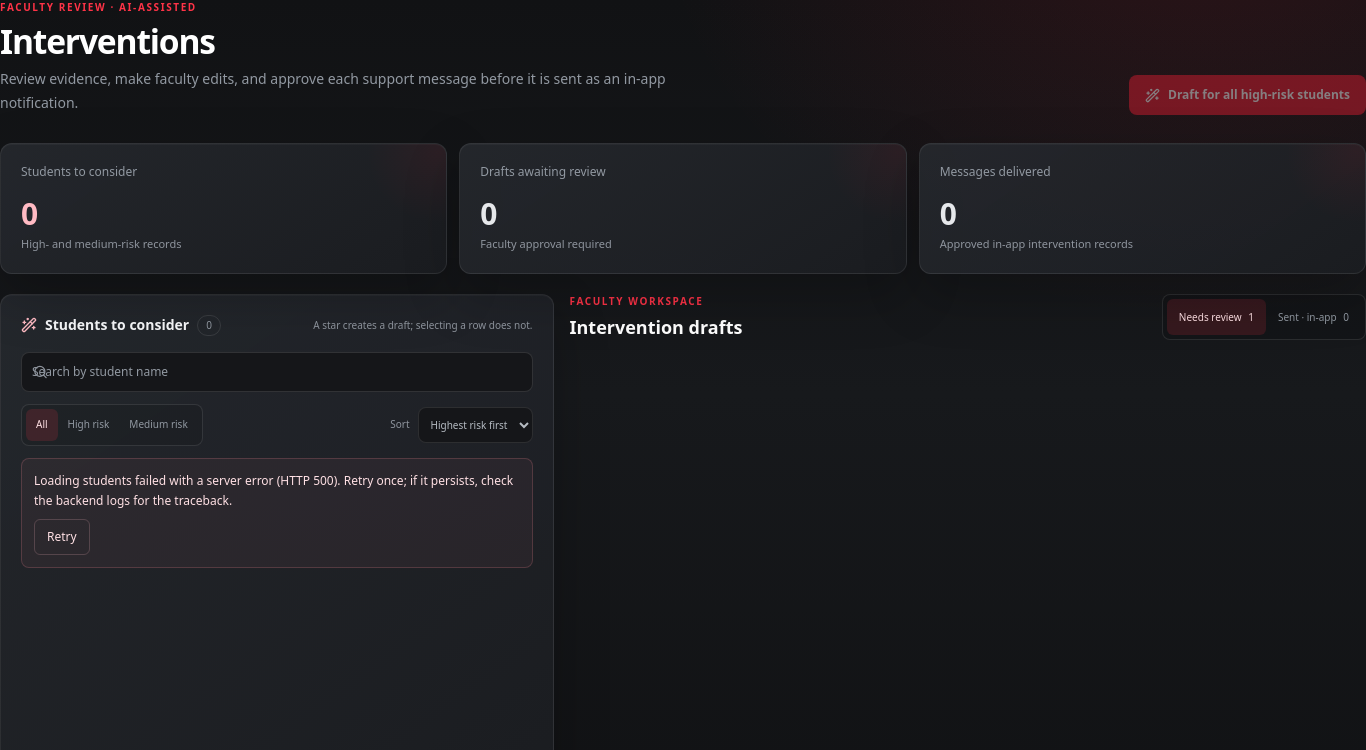
Test: teacher interventions page › shows a retry action when loading the student directory fails
The width and height of the screenshot is (1366, 750).
Expected: the text "Loading students failed with a server error" is shown, [34,472,513,508]
Click the button "Retry".
click(62, 536)  # box [34,518,90,554]
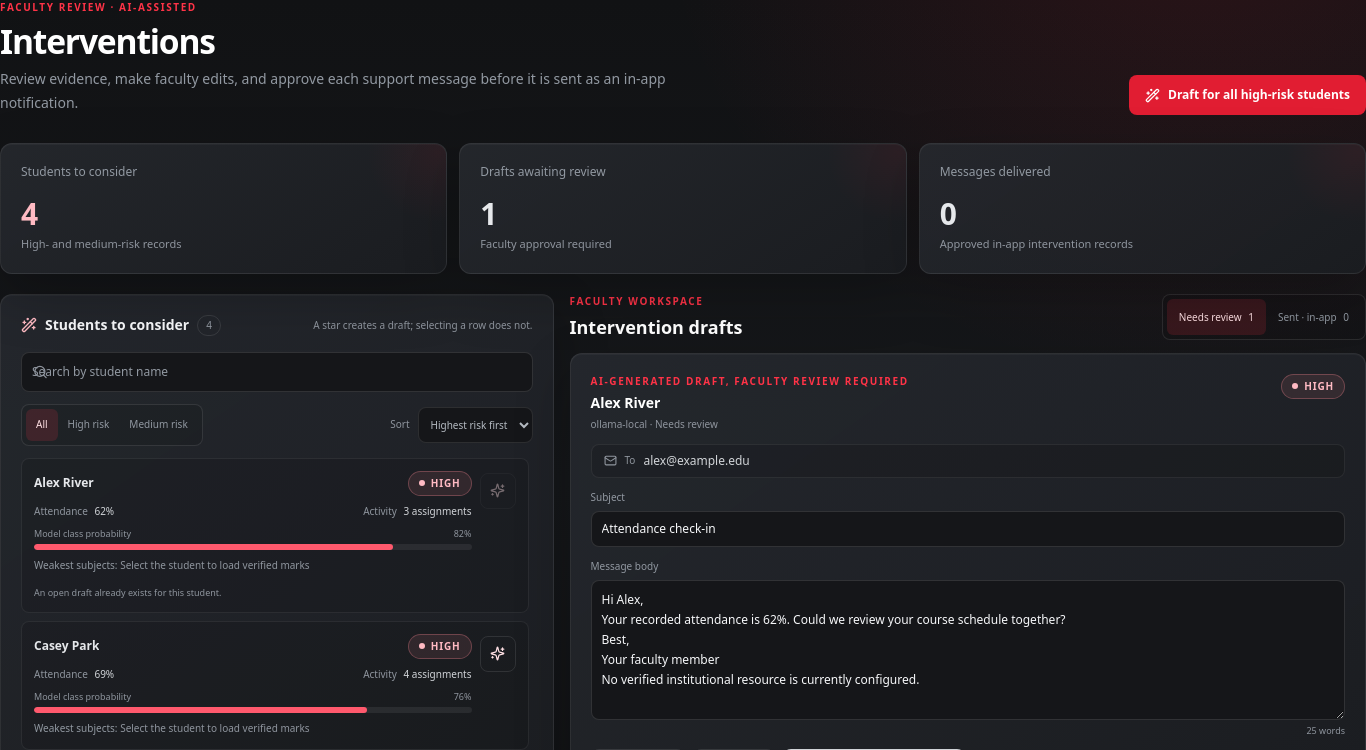
Expected: the button with aria-label "Select student Alex River" is shown, [34,470,472,574]
